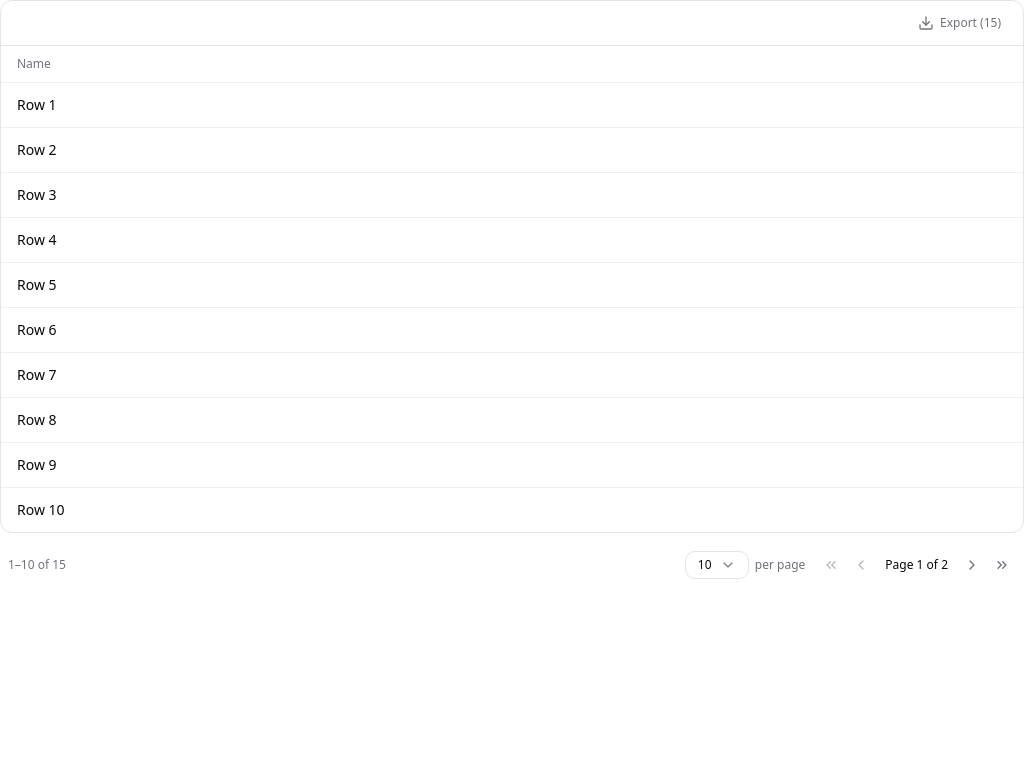
Test: DataTable — unit › Pagination › only shows rows for the current page
Expected: the text "Row 1" is shown, top-left (17, 94), bottom-right (57, 114)
Expected: the text "Row 10" is shown, top-left (17, 500), bottom-right (65, 518)
Click the button named "next" at coordinates (972, 564), box top-left (958, 550), bottom-right (986, 578)
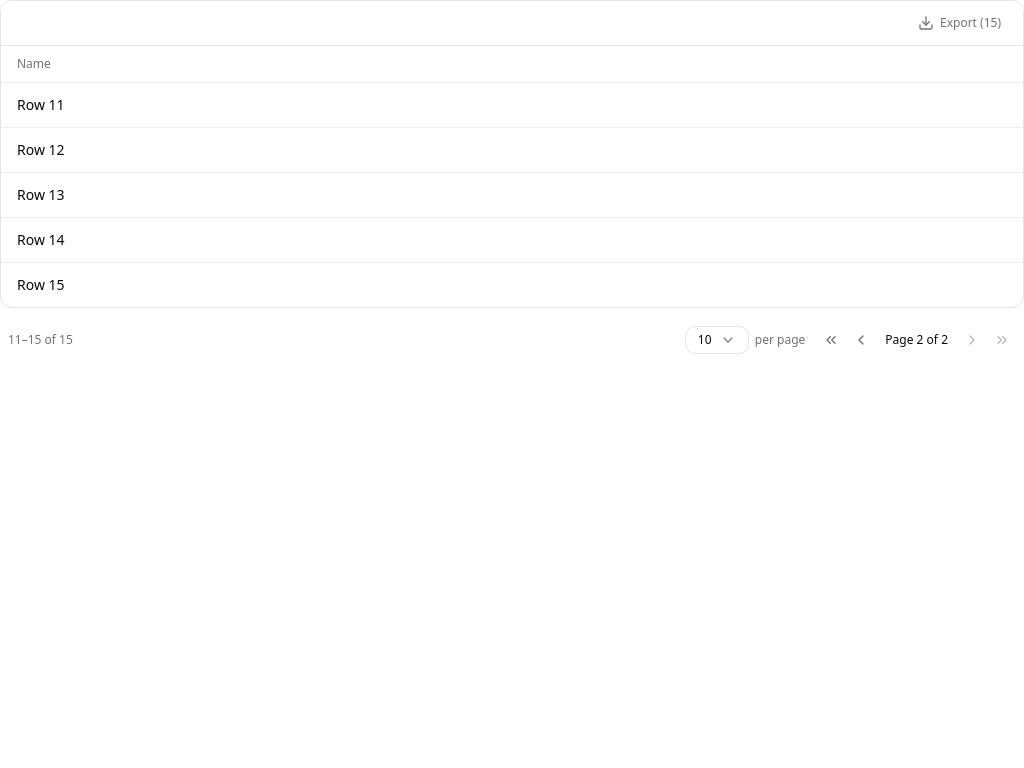
Now the text "Row 11" is shown, box top-left (17, 94), bottom-right (65, 114)
